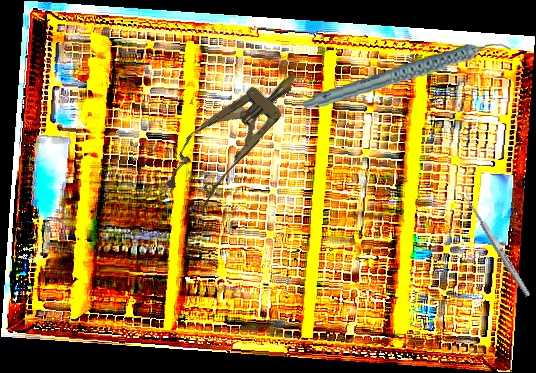Handpiece: (299, 40, 515, 111)
Speculum: (151, 52, 318, 219)
Surgical Spoon: (460, 190, 532, 298)
